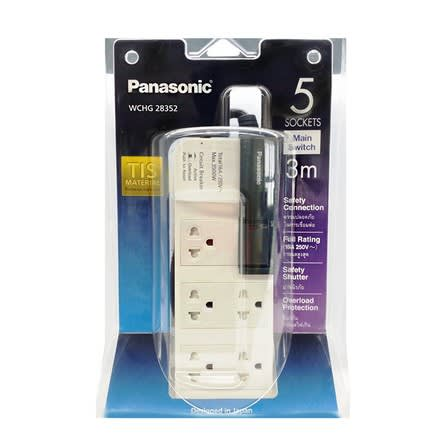Three_eye_plug: (159, 118, 284, 412)
